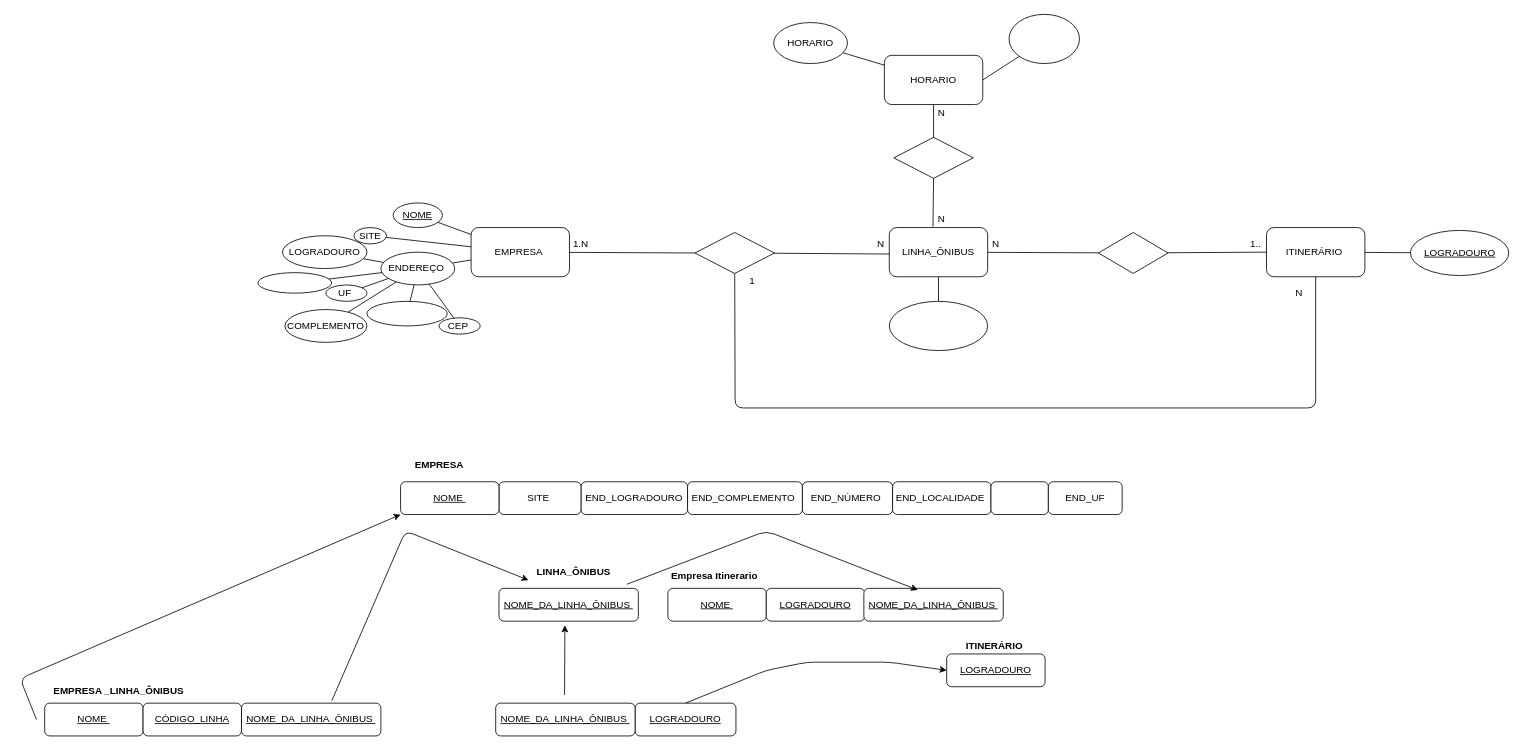
The diagram is 1524 pixels wide and 750 high, and some of its shapes have lost their labels. The centre of each missing label's shape, as x and y in pixels:
"CONTÉM" goes at (1133,252).
"DIAS SEMANA" goes at (1044,39).
"Dispoe" goes at (933,157).
"END_CEP" goes at (1019,498).
"LOCALIDADE" goes at (406,313).
"NOME DA LINHA ÔNIBUS" goes at (938,326).
"NÚMERO" goes at (294,282).
"OFERECE" goes at (734,252).
